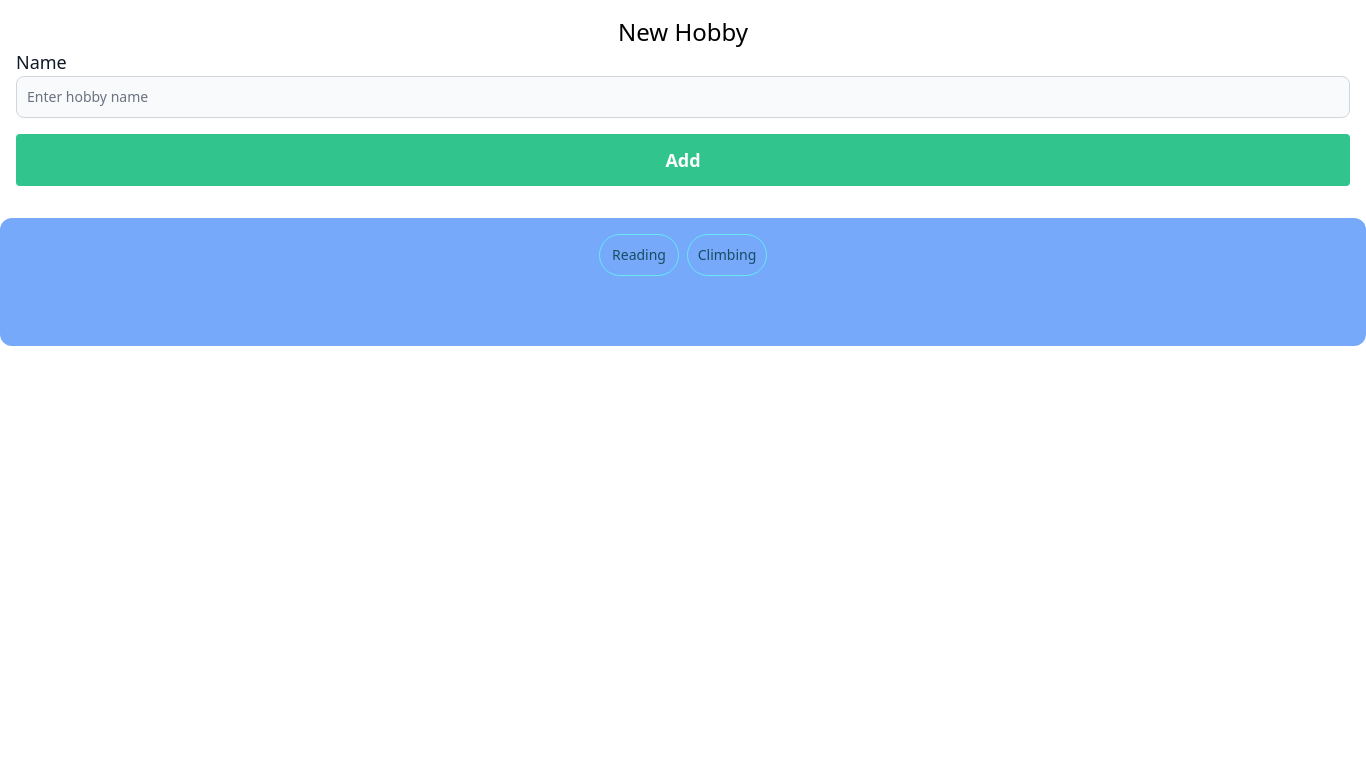
Test: HobbiesTab › opens the removal modal when an existing hobby is clicked
Click the button "Reading": [639, 255] box [599,234,679,276]
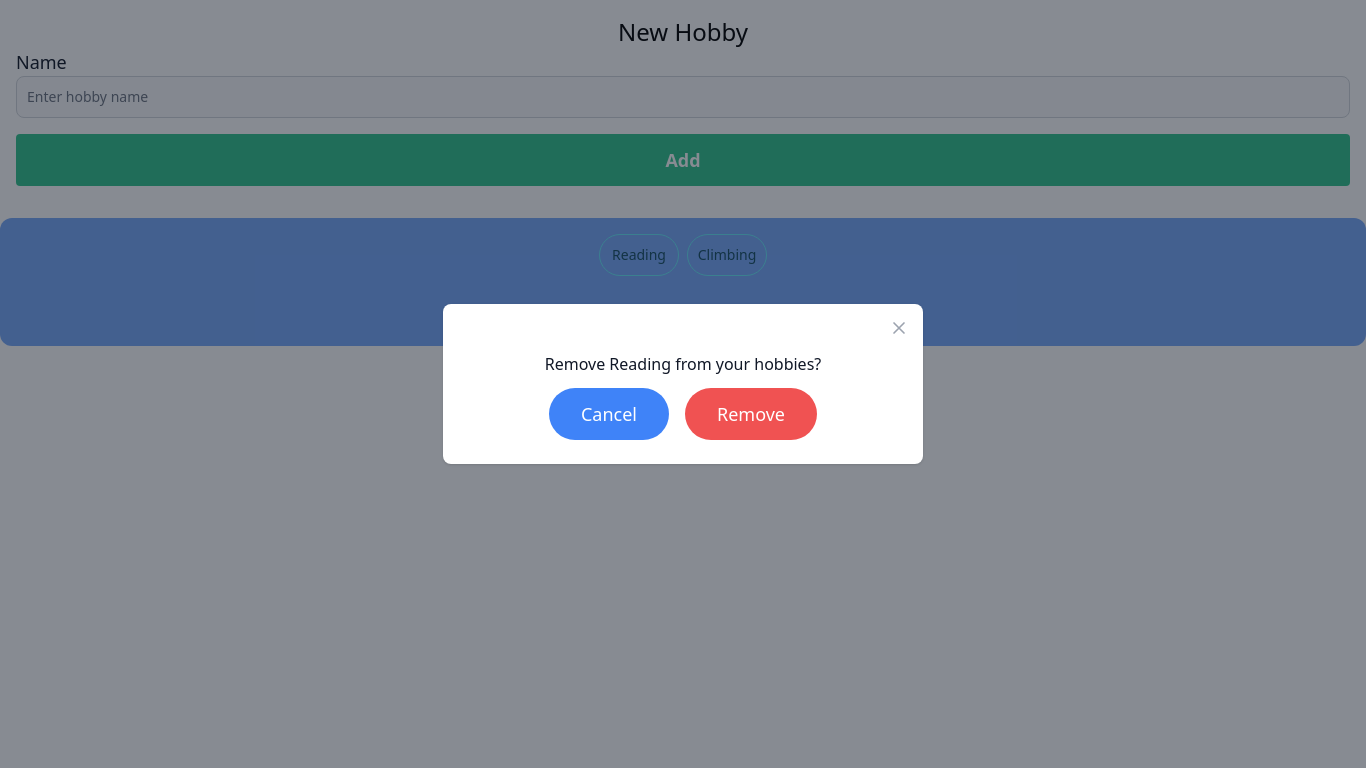
Expected: the text "Remove Reading from your hobbies?" is shown, [545,352,821,376]
